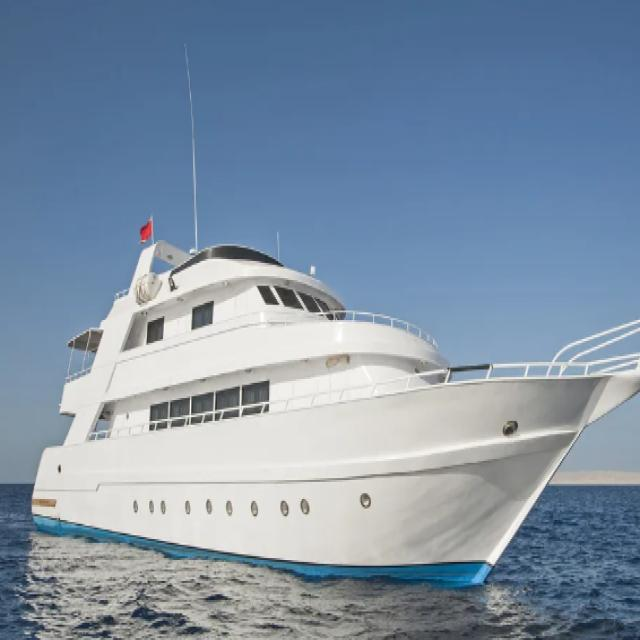houseboat: (8, 181, 640, 587)
